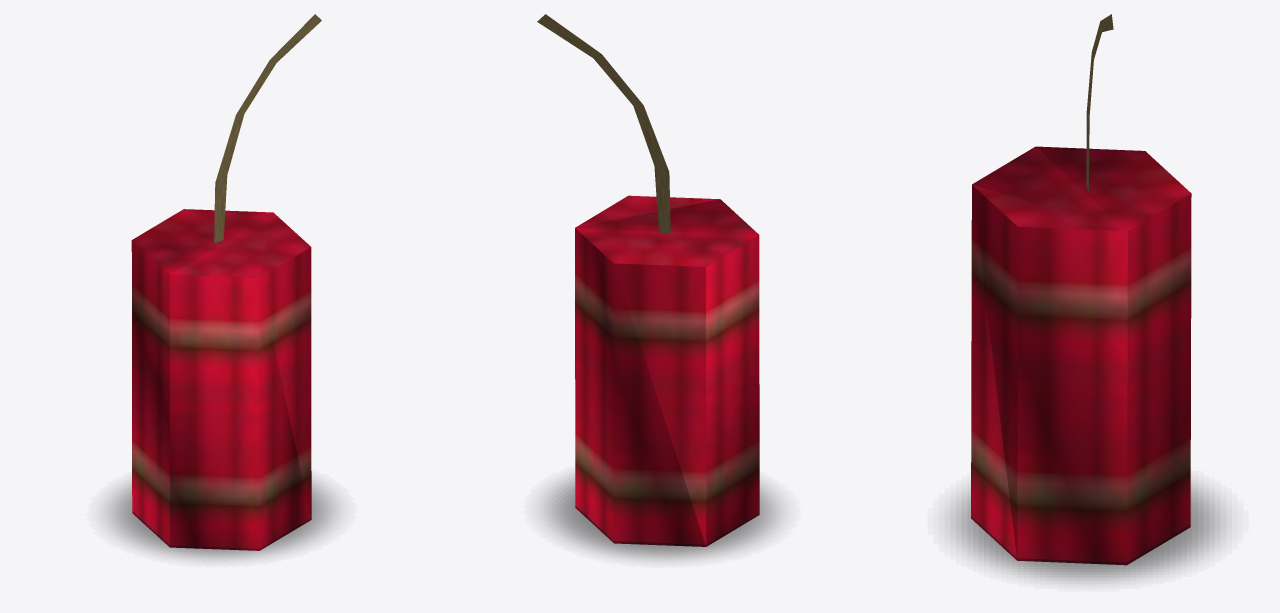
File: ice_tnt.glb
3 views of the same model, side by side, from view 1: azimuth 30°, elevation 25°; view 2: azimuth 150°, elevation 25°; view 3: azimuth 270°, elevation 25° (orthographic). The views are drawn at different scales.
Visible parts, largest first — view 1: TheSticks, pPlane1, TheFuse; view 2: TheSticks, pPlane1, TheFuse; view 3: TheSticks, pPlane1, TheFuse.
Boxes of the visible parts, x1,y1,x2,y2 form: TheSticks: [131, 209, 311, 550]; pPlane1: [104, 480, 339, 560]; TheFuse: [214, 14, 321, 243]; TheSticks: [575, 195, 759, 546]; pPlane1: [541, 475, 781, 560]; TheFuse: [537, 14, 670, 233]; TheSticks: [971, 146, 1191, 565]; pPlane1: [950, 481, 1225, 581]; TheFuse: [1086, 14, 1113, 191].
Bounding box in the file's own units: 2.62 × 4.44 × 2.53.
Materials: 3 (3 with a texture image).
